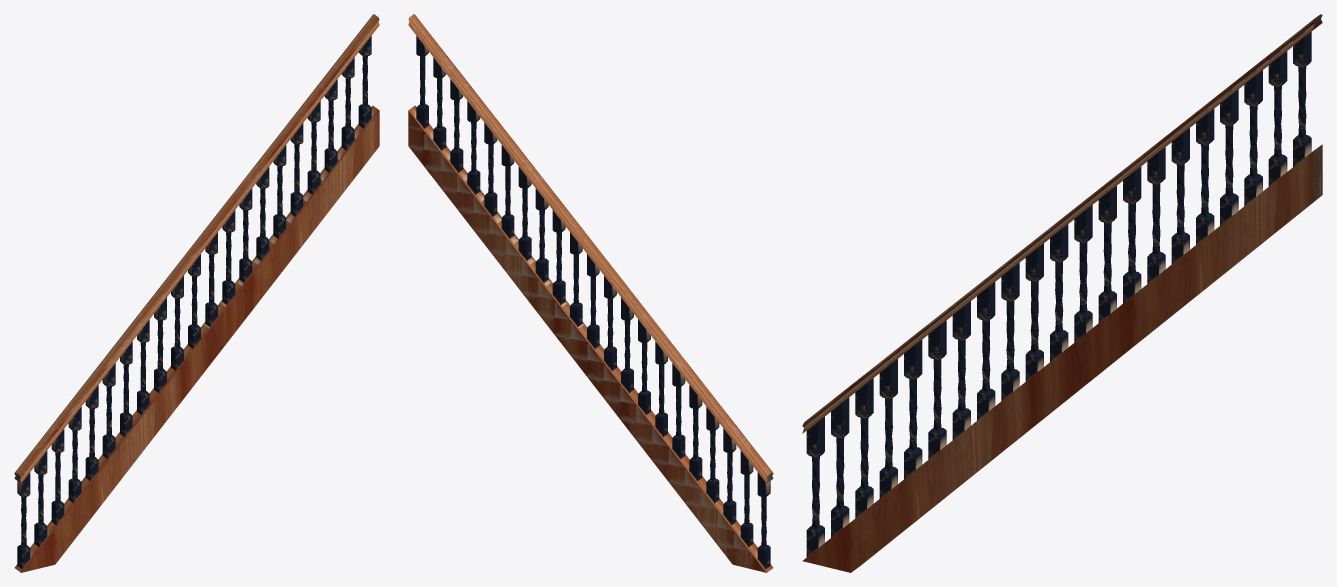
Rendered from StairBanister1.FBX.
3 renders of one model, left to right at view 1: azimuth 30°, elevation 25°; view 2: azimuth 150°, elevation 25°; view 3: azimuth 330°, elevation 25°, orthographic. The views are drawn at different scales.
Visible parts, largest first — view 1: Connector1; view 2: Connector1; view 3: Connector1.
Boxes of the visible parts, left/top/right/bottom form: Connector1: left=14, top=14, right=379, bottom=572; Connector1: left=408, top=14, right=773, bottom=572; Connector1: left=802, top=14, right=1322, bottom=572.
Bounding box in the file's own units: 267 × 332 × 8.89.
